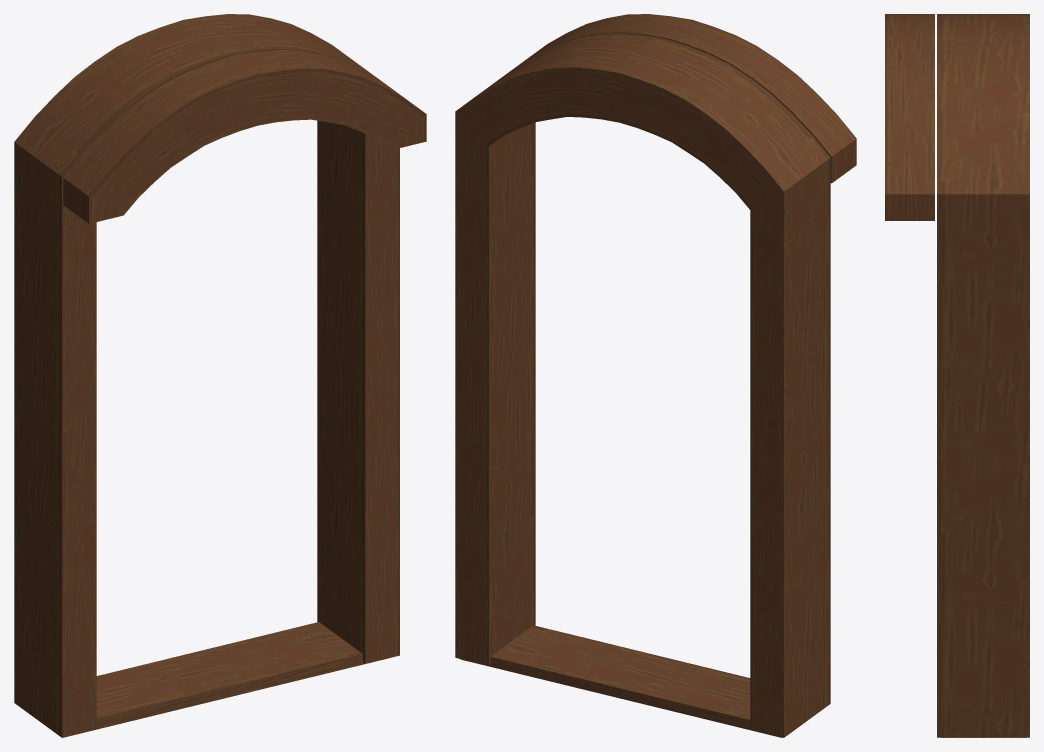
File: gate-qm-doorframeroundwooddark.glb
The picture shows the model from 3 angles, left to right: view 1: azimuth 30°, elevation 25°; view 2: azimuth 150°, elevation 25°; view 3: azimuth 270°, elevation 25°; orthographic projection. The views are drawn at different scales.
Parts seen in each view (by area): view 1: Cube_251; view 2: Cube_251; view 3: Cube_251.
Part boxes in pixels (left/top/right/bottom): Cube_251: left=14, top=14, right=426, bottom=737; Cube_251: left=455, top=14, right=856, bottom=737; Cube_251: left=885, top=14, right=1029, bottom=737.
Bounding box in the file's own units: 1.41 × 2.56 × 0.539.
Materials: 1 (1 with a texture image).
